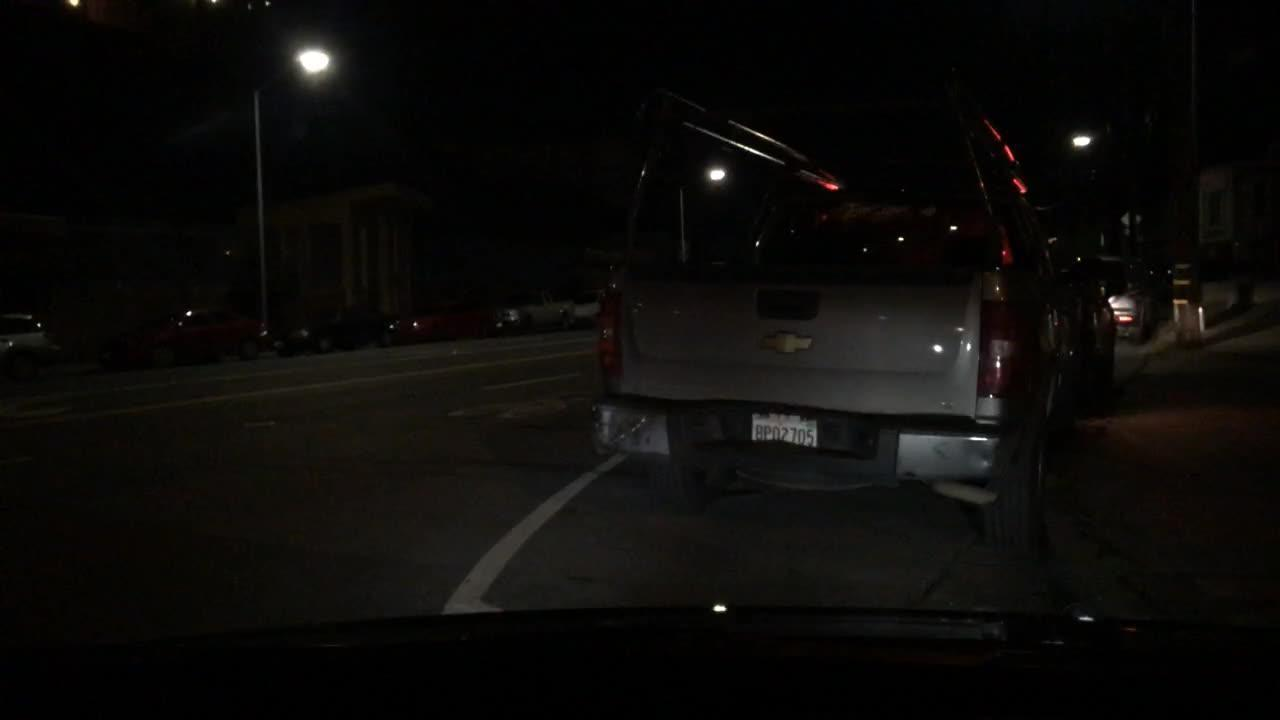chevrolet: (745, 317, 823, 364)
